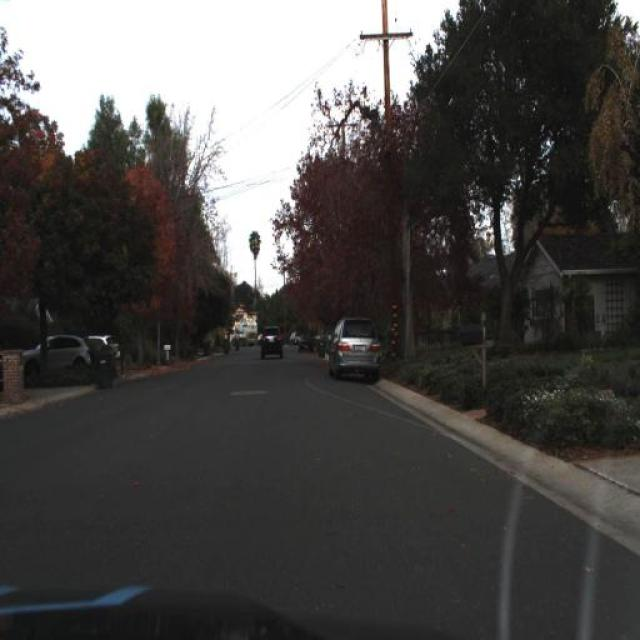car: (326, 318, 385, 382), (20, 335, 90, 387), (254, 320, 286, 360), (298, 334, 314, 354)
